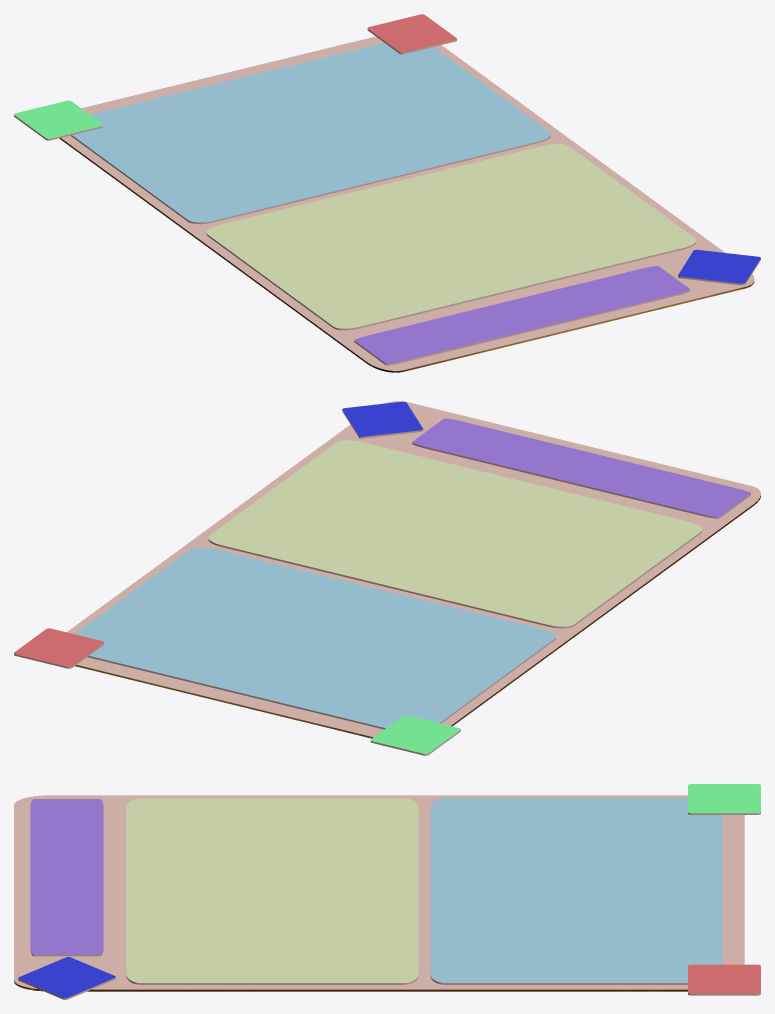
Rendered from Card.fbx.
3 renders of one model, top to bottom at view 1: azimuth 30°, elevation 25°; view 2: azimuth 150°, elevation 25°; view 3: azimuth 270°, elevation 25°, orthographic. The views are drawn at different scales.
Visible parts, largest first — view 1: Socket_Imagem, Socket_Texto, Card_Base, Socket_Nome, Socket_Vida, Socket_Ataque, Socket_Mana; view 2: Socket_Imagem, Socket_Texto, Card_Base, Socket_Nome, Socket_Vida, Socket_Ataque, Socket_Mana; view 3: Socket_Imagem, Socket_Texto, Card_Base, Socket_Nome, Socket_Mana, Socket_Ataque, Socket_Vida.
Part boxes in pixels (bbox=[...]): Socket_Imagem: bbox=[206, 144, 696, 330]; Socket_Texto: bbox=[71, 43, 550, 224]; Card_Base: bbox=[59, 36, 754, 372]; Socket_Nome: bbox=[354, 266, 690, 365]; Socket_Vida: bbox=[14, 100, 103, 140]; Socket_Ataque: bbox=[367, 14, 456, 54]; Socket_Mana: bbox=[678, 249, 760, 285]; Socket_Imagem: bbox=[208, 440, 702, 628]; Socket_Texto: bbox=[74, 547, 555, 729]; Card_Base: bbox=[67, 401, 760, 738]; Socket_Nome: bbox=[412, 418, 750, 518]; Socket_Vida: bbox=[370, 715, 460, 755]; Socket_Ataque: bbox=[14, 628, 104, 668]; Socket_Mana: bbox=[342, 401, 423, 438]; Socket_Imagem: bbox=[126, 798, 418, 984]; Socket_Texto: bbox=[430, 798, 722, 984]; Card_Base: bbox=[14, 795, 744, 991]; Socket_Nome: bbox=[30, 799, 103, 956]; Socket_Mana: bbox=[18, 957, 115, 999]; Socket_Ataque: bbox=[688, 964, 760, 995]; Socket_Vida: bbox=[688, 784, 760, 814].
Size of the model in its own units: 0.0611 by 0.00072 by 0.0909.
